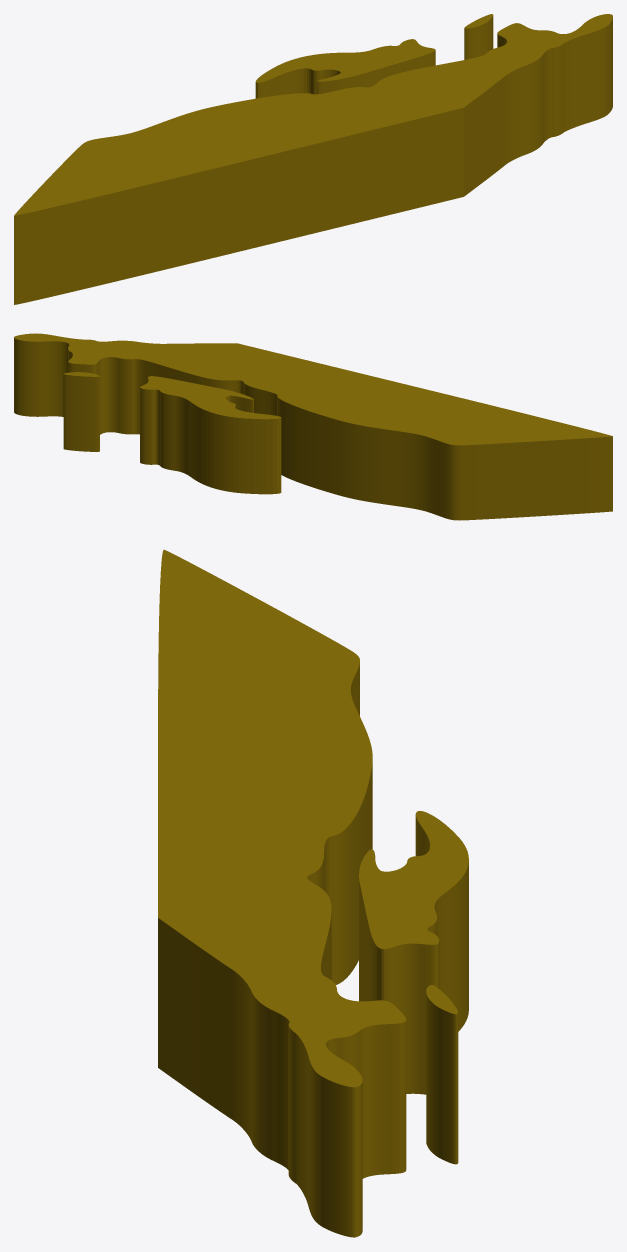
The model's file is North_America_06.obj.
3 views of the same model, one above another, from view 1: azimuth 30°, elevation 25°; view 2: azimuth 150°, elevation 25°; view 3: azimuth 270°, elevation 25° (orthographic). The views are drawn at different scales.
Visible parts, largest first — view 1: North_America_06_path4202; view 2: North_America_06_path4202; view 3: North_America_06_path4202.
Part boxes in pixels (box(x1,y1,x2,y2)): North_America_06_path4202: box(14, 14, 612, 304); North_America_06_path4202: box(14, 333, 612, 520); North_America_06_path4202: box(158, 549, 468, 1237).
Size of the model in its own units: 0.7682 by 0.1 by 0.1877.
